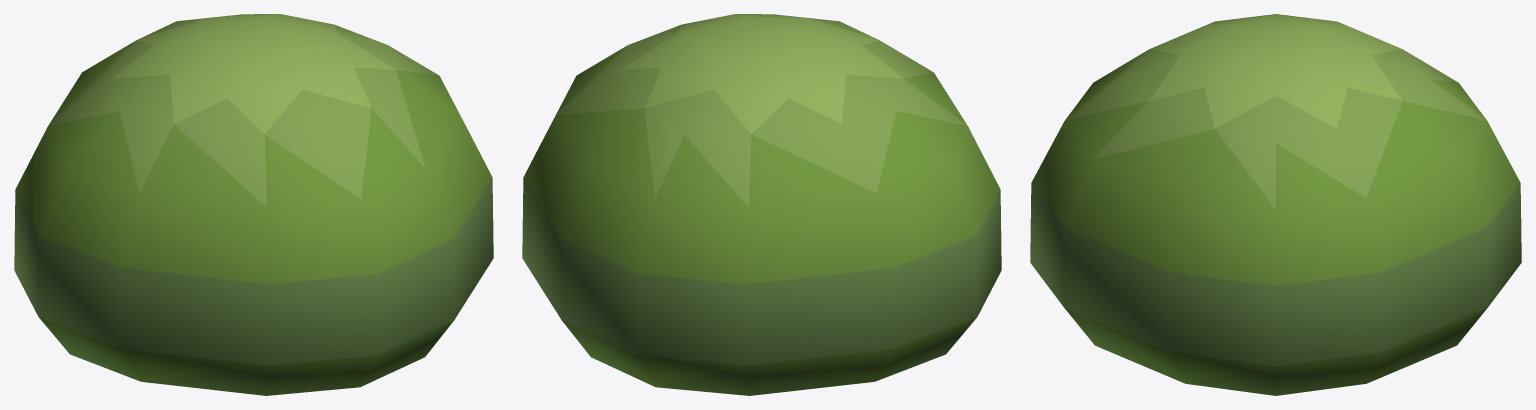
The model's file is itch_kaykit_forest_bush_1_b_color1.glb.
3 renders of one model, left to right at view 1: azimuth 30°, elevation 25°; view 2: azimuth 150°, elevation 25°; view 3: azimuth 270°, elevation 25°, orthographic.
Visible parts, largest first — view 1: Bush_1_B_Color1; view 2: Bush_1_B_Color1; view 3: Bush_1_B_Color1.
Part boxes in pixels (x1,y1,x2,y2): Bush_1_B_Color1: (14, 14, 493, 395); Bush_1_B_Color1: (522, 14, 1001, 395); Bush_1_B_Color1: (1030, 14, 1521, 395).
Bounding box in the file's own units: 0.96 × 0.6433 × 0.96.
